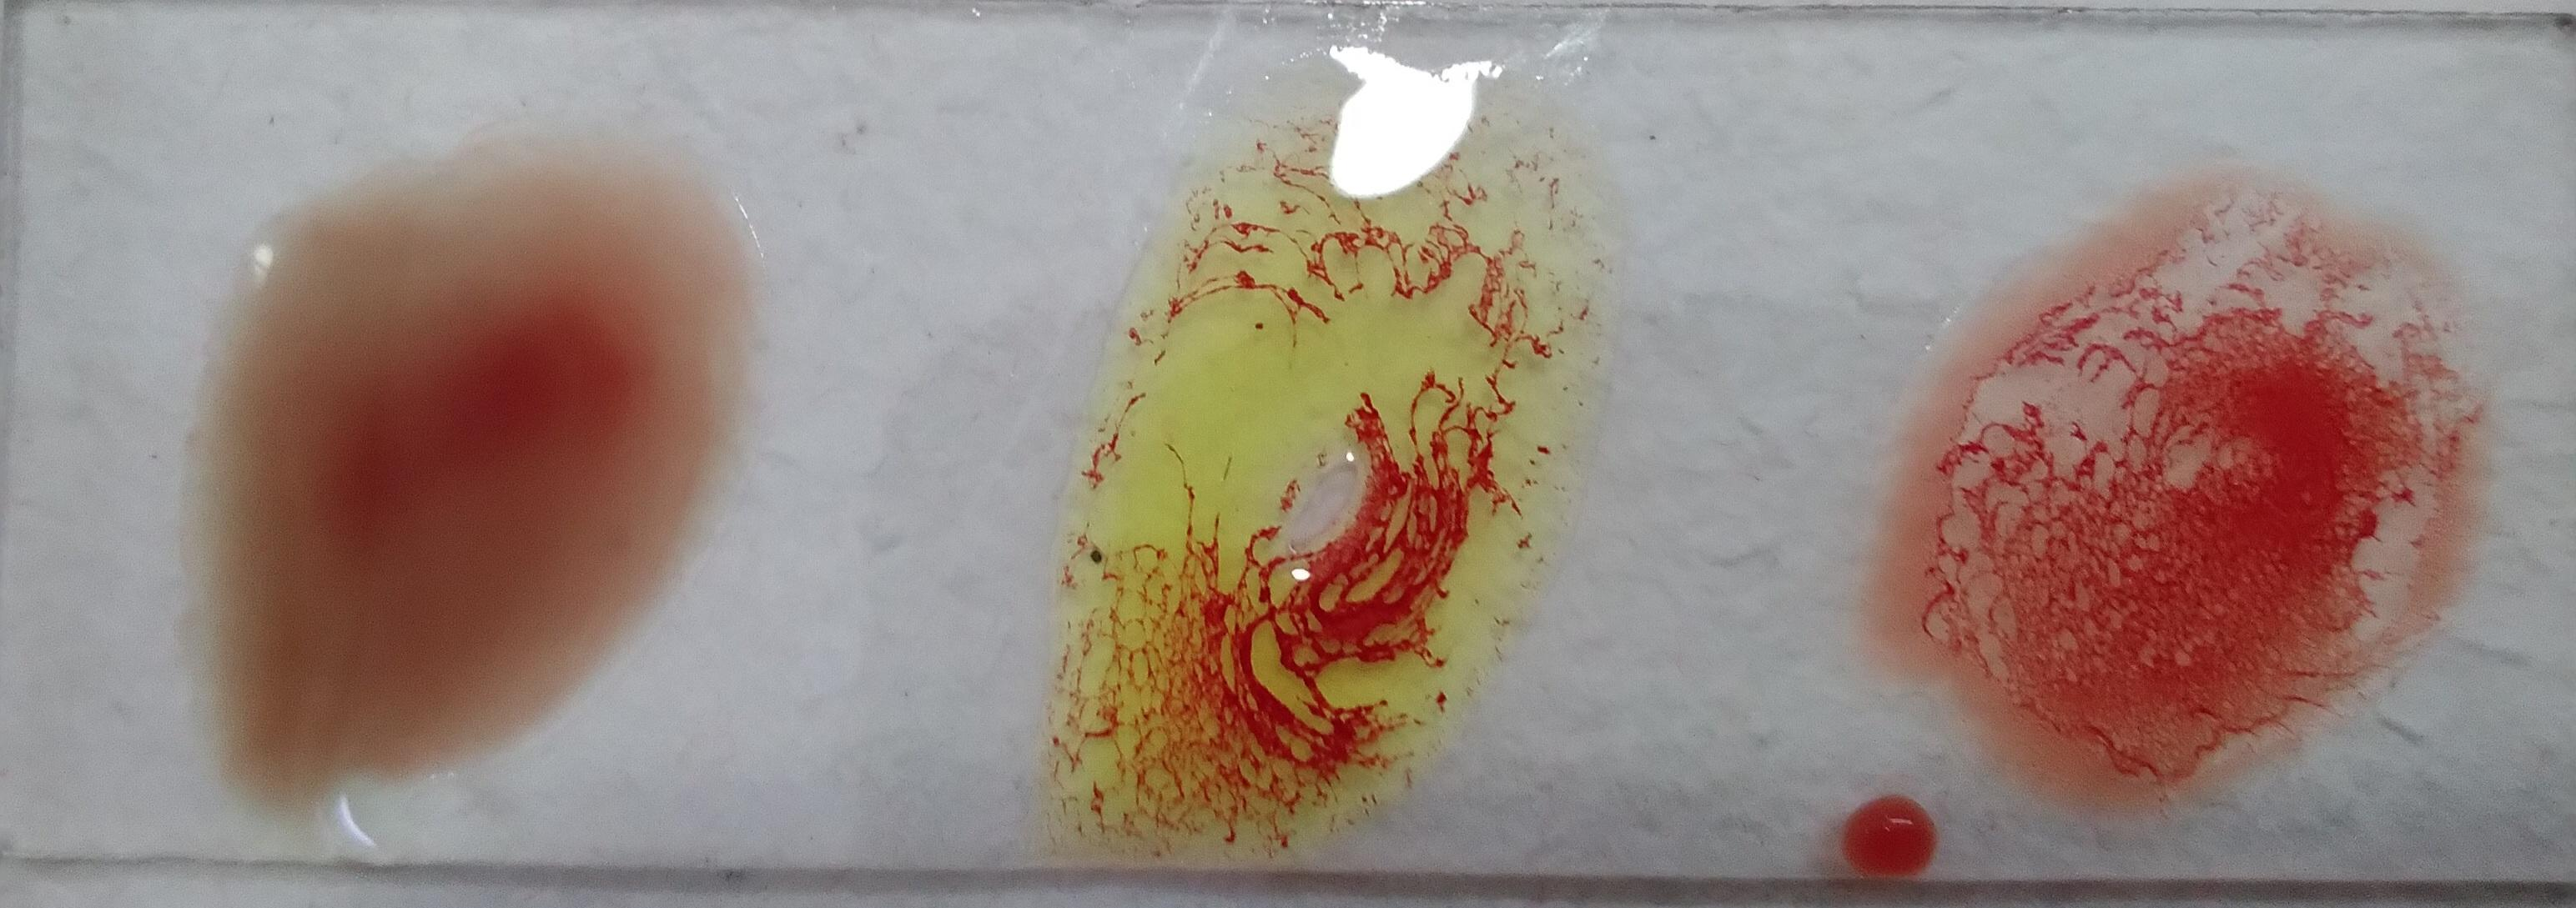B: (987, 39, 1518, 803)
D: (103, 84, 662, 731)
